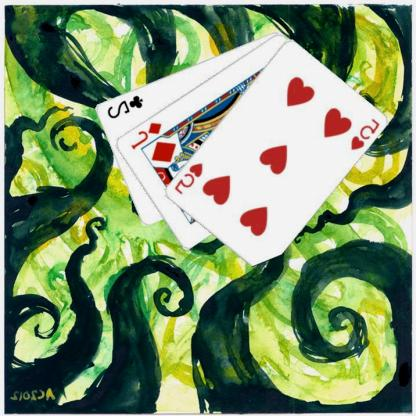2C: (106, 92, 146, 120)
5H: (172, 160, 206, 196), (349, 116, 382, 152)
JD: (130, 120, 165, 150)
